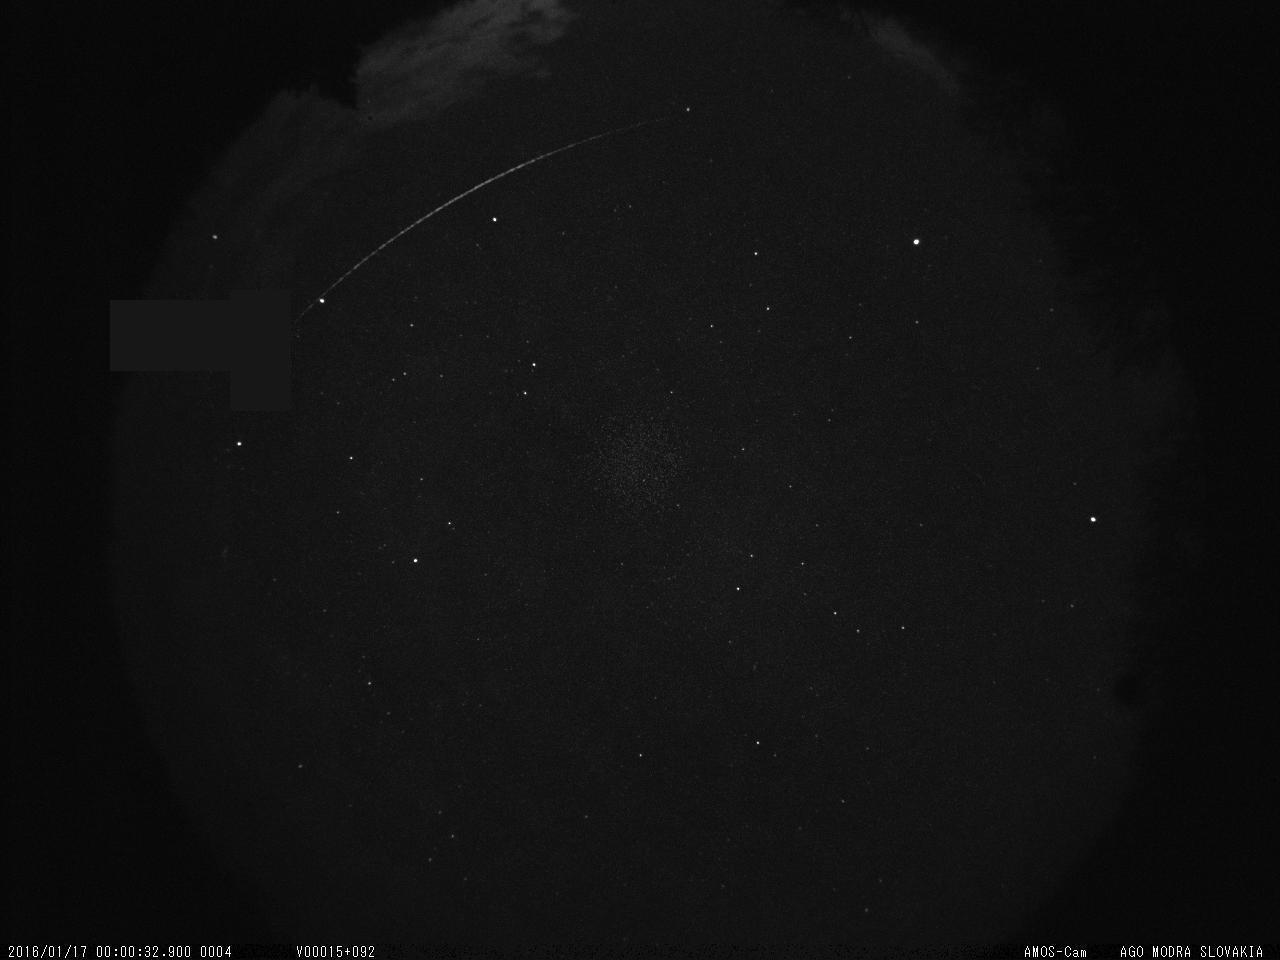meteor: (276, 111, 692, 343)
